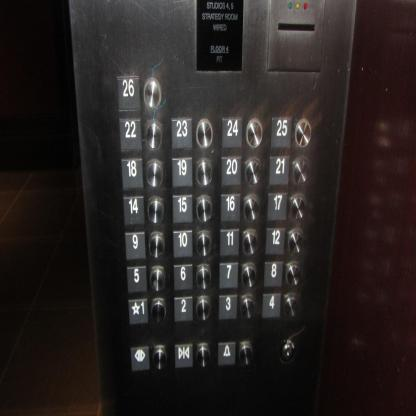10: (172, 229, 193, 259)
11: (219, 228, 240, 258)
12: (265, 226, 286, 256)
14: (122, 194, 146, 228)
15: (172, 194, 194, 225)
16: (220, 192, 241, 223)
17: (266, 192, 288, 221)
18: (121, 157, 144, 190)
19: (170, 156, 194, 188)
2: (172, 295, 194, 323)
20: (220, 155, 242, 187)
21: (268, 154, 289, 186)
22: (118, 118, 142, 152)
23: (171, 116, 194, 151)
24: (220, 116, 243, 148)
25: (270, 116, 292, 149)
26: (116, 75, 140, 113)
3: (217, 293, 238, 321)
4: (262, 291, 282, 319)
5: (125, 264, 148, 295)
6: (172, 263, 194, 292)
7: (218, 261, 239, 289)
8: (262, 259, 284, 288)
9: (124, 230, 146, 262)
alarm: (217, 340, 236, 367)
close: (173, 342, 194, 369)
empty: (142, 76, 162, 110), (145, 158, 164, 188), (145, 118, 162, 151), (195, 118, 213, 149), (195, 156, 213, 187), (294, 117, 312, 148), (245, 118, 263, 148), (244, 157, 262, 187), (146, 195, 164, 225), (147, 230, 165, 260), (241, 227, 259, 256), (195, 194, 212, 224), (243, 193, 260, 223), (292, 156, 309, 186), (240, 261, 257, 290), (239, 294, 256, 323), (283, 291, 299, 320), (195, 229, 212, 256), (289, 194, 306, 221), (287, 228, 304, 255), (149, 264, 165, 292), (150, 296, 166, 324), (151, 344, 167, 372), (285, 261, 302, 287), (196, 264, 212, 291), (238, 340, 253, 367), (195, 296, 211, 320), (196, 342, 210, 369)
keyhole: (280, 336, 294, 364)
open: (129, 345, 151, 372)
s1: (127, 298, 149, 326)
